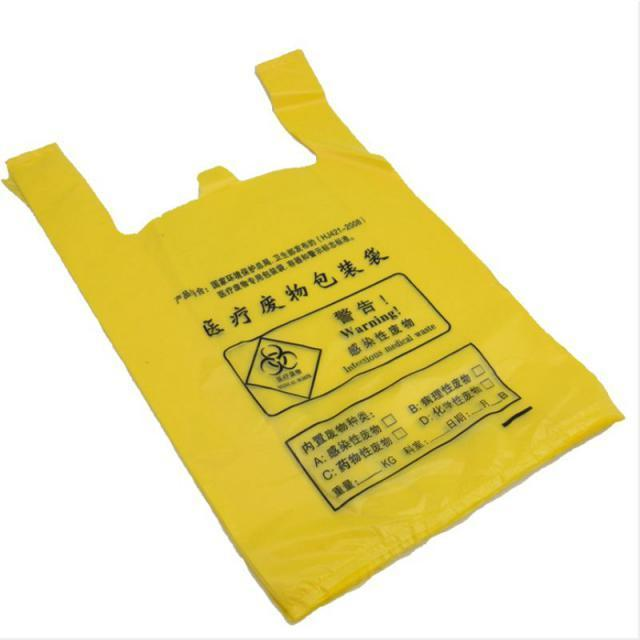waste: (12, 58, 618, 598)
